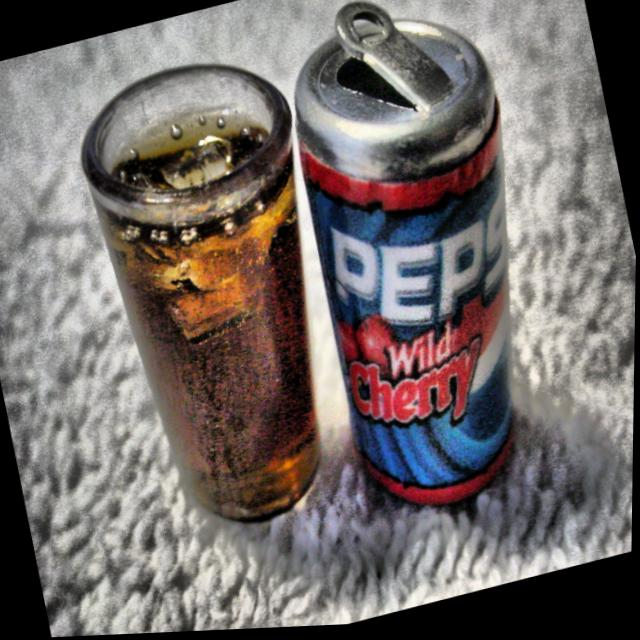Cans: (257, 0, 583, 536)
